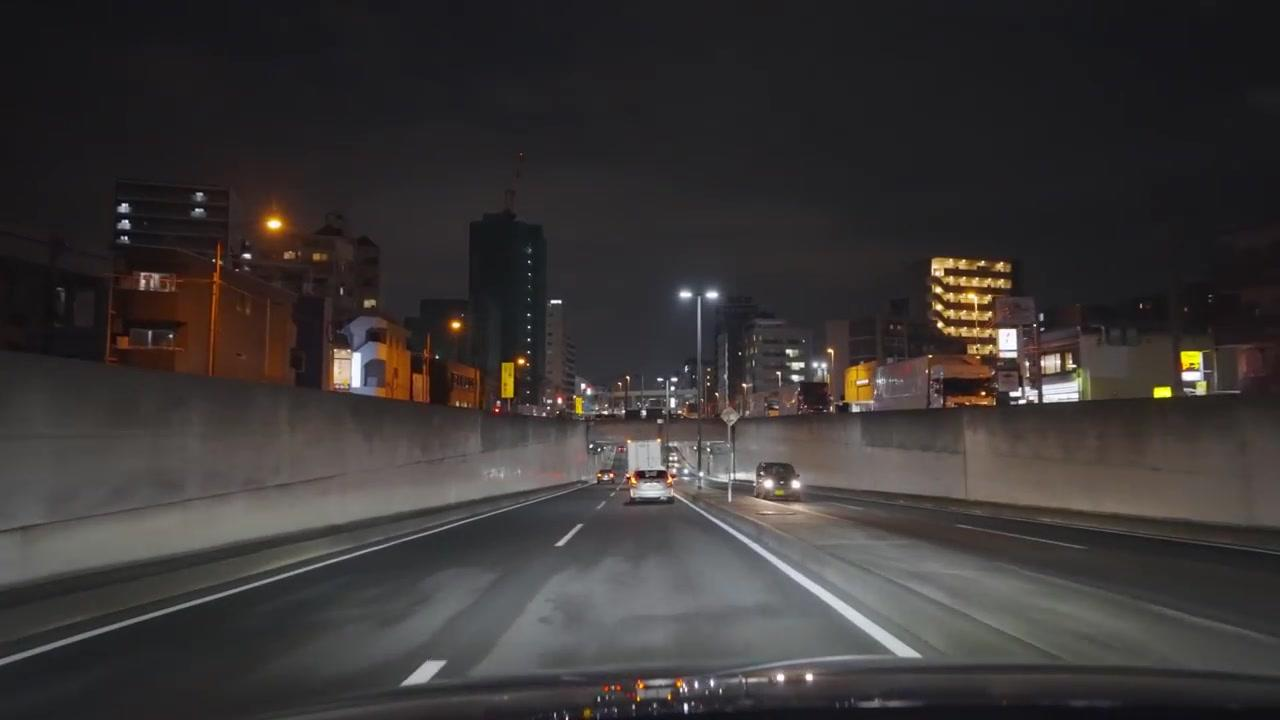car: (752, 460, 803, 501), (626, 470, 675, 505), (672, 466, 702, 485), (596, 466, 620, 484)
traffic light: (703, 367, 713, 392)
train: (841, 353, 998, 413)
